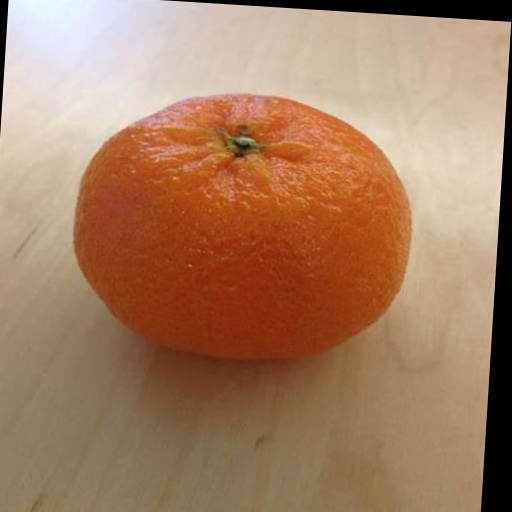fruit: (74, 95, 410, 358)
